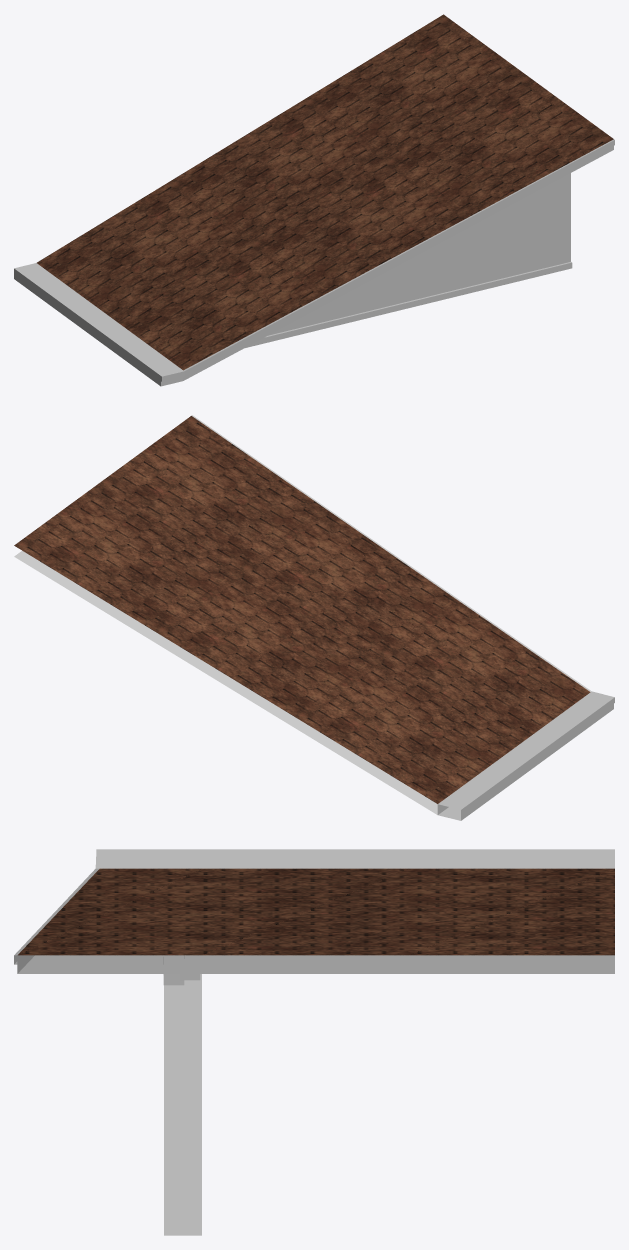
Rendered from SHED_ROOF_END.fbx.
3 renders of one model, top to bottom at view 1: azimuth 30°, elevation 25°; view 2: azimuth 150°, elevation 25°; view 3: azimuth 270°, elevation 25°, orthographic. The views are drawn at different scales.
Parts seen in each view (by area): view 1: SHED_ROOF_END; view 2: SHED_ROOF_END; view 3: SHED_ROOF_END.
Part boxes in pixels (left/top/right/bottom): SHED_ROOF_END: left=14, top=14, right=614, bottom=386; SHED_ROOF_END: left=14, top=415, right=614, bottom=820; SHED_ROOF_END: left=14, top=849, right=614, bottom=1235.
Size of the model in its own units: 3.8 by 1.35 by 2.62.
